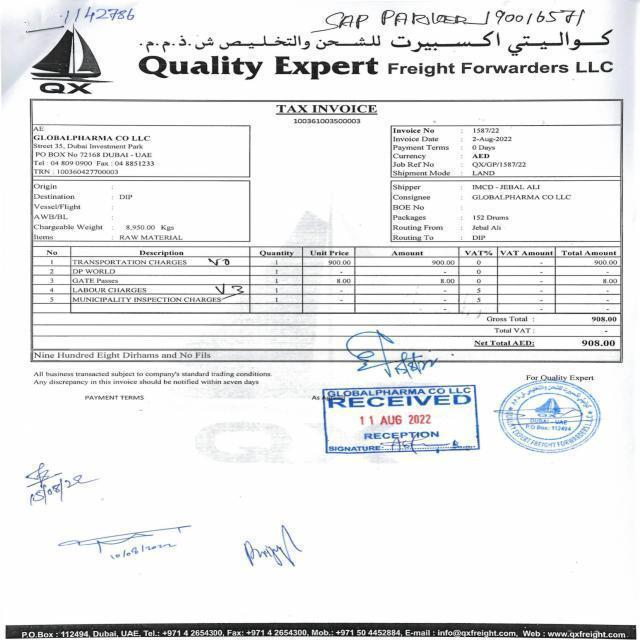ROI: (29, 246, 623, 314), (301, 384, 490, 467), (137, 52, 620, 84), (135, 29, 629, 56), (388, 184, 576, 242), (33, 182, 211, 241), (495, 372, 613, 459), (386, 117, 552, 178), (31, 123, 210, 176), (308, 5, 592, 34), (22, 28, 130, 97), (55, 518, 208, 565), (469, 315, 619, 358), (336, 327, 444, 382), (235, 512, 311, 589), (10, 459, 101, 513), (32, 370, 276, 387), (30, 347, 216, 361), (54, 2, 142, 24), (275, 101, 383, 115), (81, 392, 150, 410), (291, 117, 363, 126)
